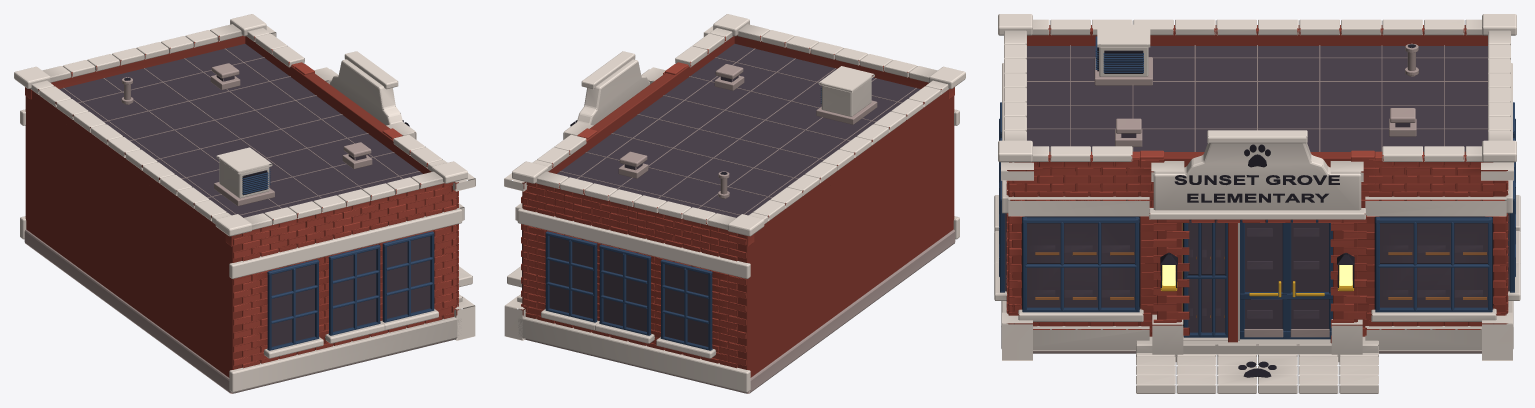
File: bld.school-elementary.lod1.glb
3 renders of one model, left to right at view 1: azimuth 30°, elevation 25°; view 2: azimuth 150°, elevation 25°; view 3: azimuth 270°, elevation 25°, orthographic. The views are drawn at different scales.
Parts seen in each view (by area): view 1: body, roof; view 2: body, roof; view 3: body, roof, door_L, door_R, object 6.
Boxes of the visible parts, <box> form: body: <box>20,26,475,393</box>; roof: <box>14,14,467,246</box>; body: <box>504,26,959,393</box>; roof: <box>512,14,965,246</box>; body: <box>994,25,1520,393</box>; roof: <box>998,14,1516,167</box>; door_L: <box>1240,220,1287,339</box>; door_R: <box>1286,220,1332,339</box>; object 6: <box>1160,252,1354,291</box>.
Bounding box in the file's own units: 10.07 × 6.14 × 12.67.
